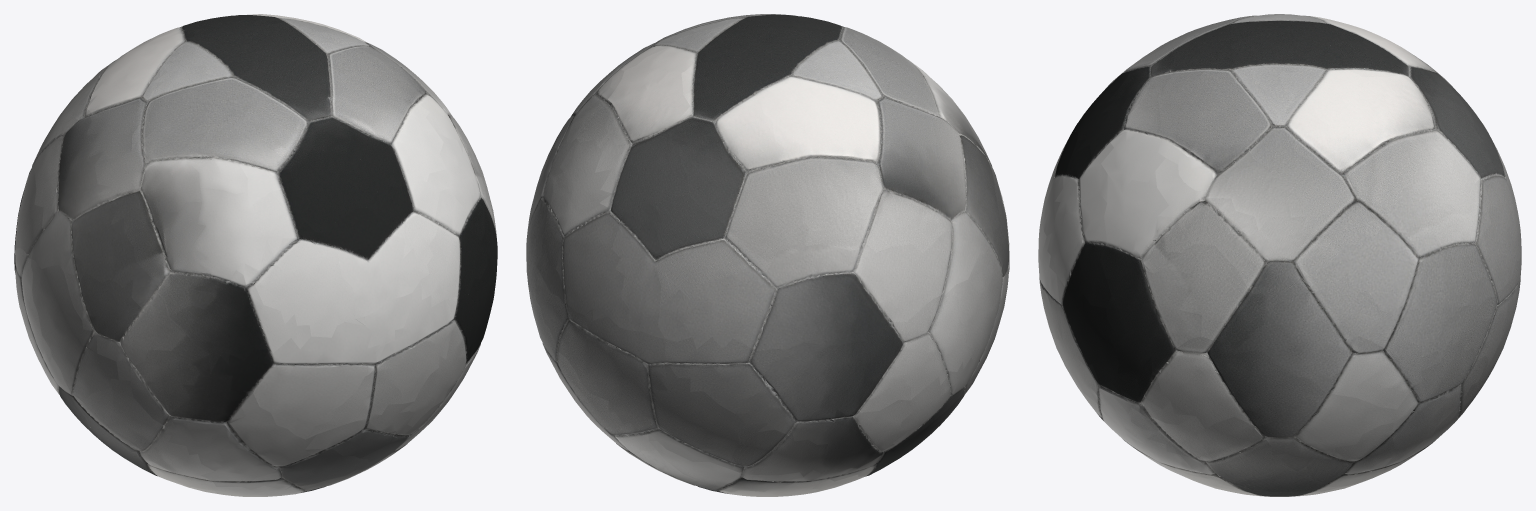
Rendered from football-090b36.glb.
The picture shows the model from 3 angles, left to right: view 1: azimuth 30°, elevation 25°; view 2: azimuth 150°, elevation 25°; view 3: azimuth 270°, elevation 25°; orthographic projection.
Size of the model in its own units: 1.9 by 1.9 by 1.9.
1 material, 1 textured.
